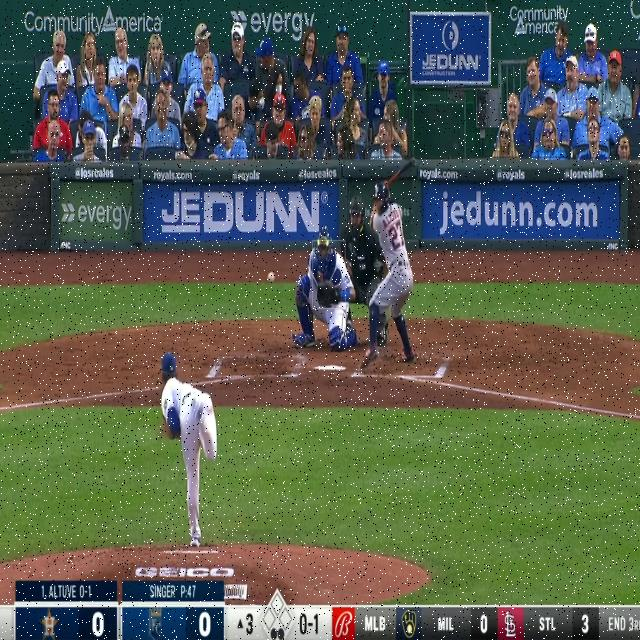baseball: (267, 270, 275, 284)
